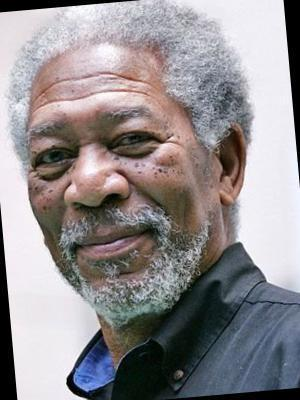Sober: (28, 64, 202, 278)
